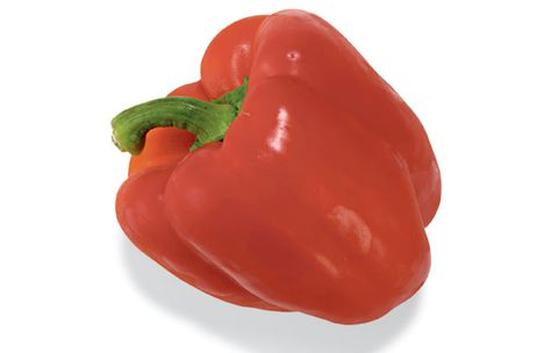pepper: (109, 8, 440, 327)
